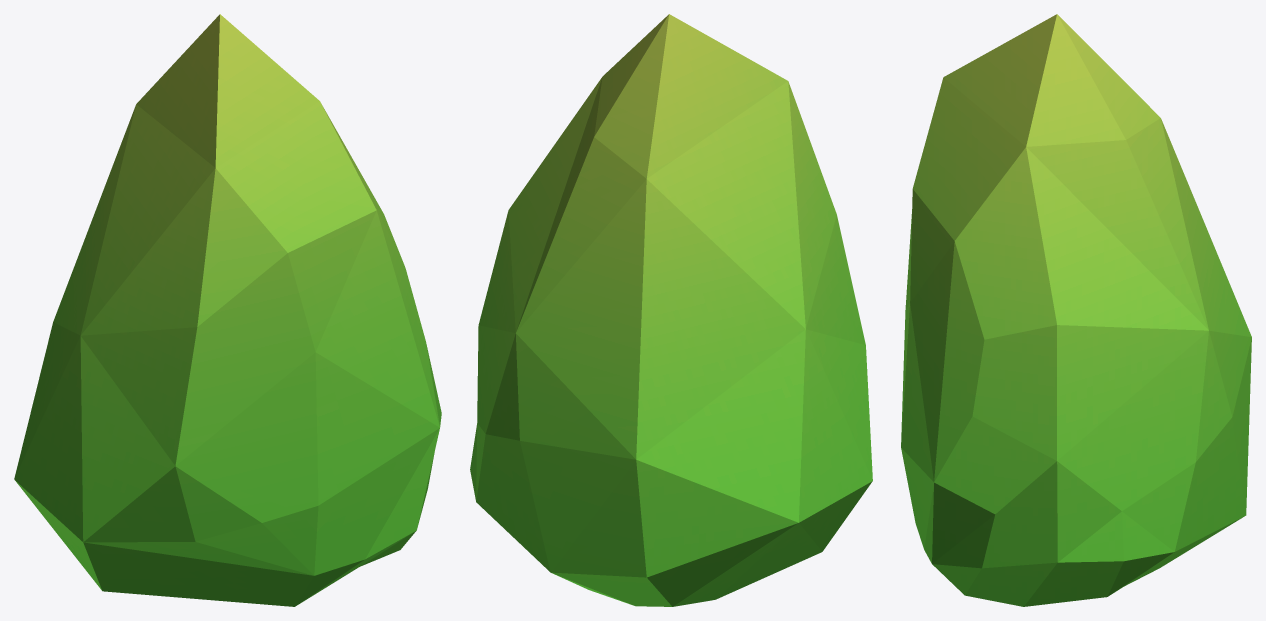
Rendered from Waterdrop_003.FBX.
3 views of the same model, side by side, from view 1: azimuth 30°, elevation 25°; view 2: azimuth 150°, elevation 25°; view 3: azimuth 270°, elevation 25° (orthographic). The views are drawn at different scales.
Parts seen in each view (by area): view 1: waterdrop_03; view 2: waterdrop_03; view 3: waterdrop_03.
Boxes of the visible parts, box(x1,y1,x2,y2) form: waterdrop_03: box(14, 14, 441, 606); waterdrop_03: box(470, 14, 872, 606); waterdrop_03: box(901, 14, 1251, 606).
Bounding box in the file's own units: 0.4158 × 0.624 × 0.3545.
